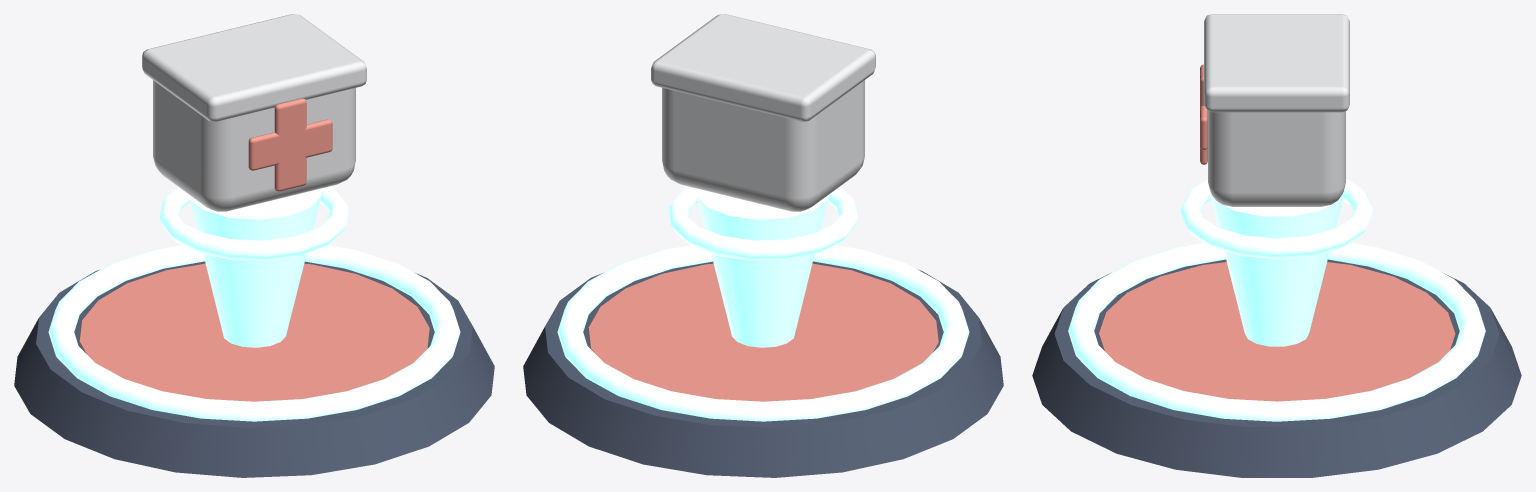
Rendered from hero-shooter-harbour-payload-pickup-health-small-703479f8__27677.glb.
3 renders of one model, left to right at view 1: azimuth 30°, elevation 25°; view 2: azimuth 150°, elevation 25°; view 3: azimuth 270°, elevation 25°, orthographic.
Visible parts, largest first — view 1: pickup-health-small, item/shell, item/coral; view 2: pickup-health-small, item/shell; view 3: pickup-health-small, item/shell, item/coral.
Part boxes in pixels (x1,y1,x2,y2): pickup-health-small: (14, 186, 494, 477); item/shell: (142, 14, 366, 211); item/coral: (248, 98, 332, 191); pickup-health-small: (523, 186, 1003, 477); item/shell: (651, 14, 875, 211); pickup-health-small: (1032, 178, 1521, 477); item/shell: (1204, 14, 1349, 206); item/coral: (1200, 64, 1207, 164).
Bounding box in the file's own units: 0.7404 × 0.5485 × 0.748.
